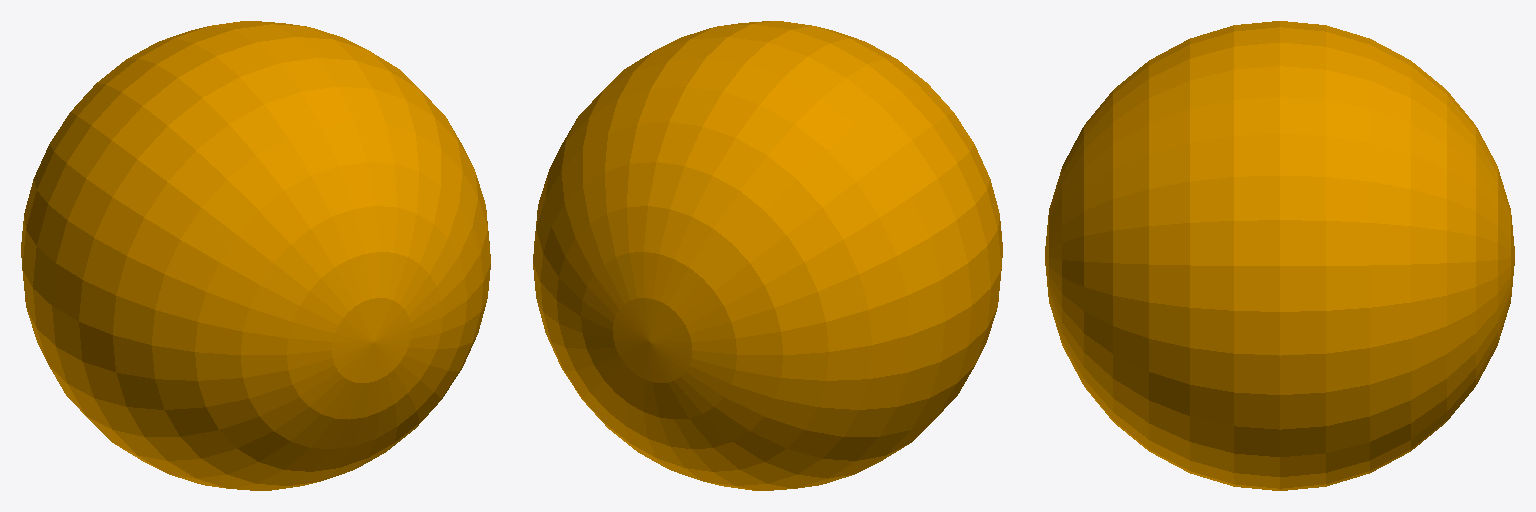
URDF robot description (spl-22-ball-v2.urdf):
<?xml version="1.0" ?>
<robot name="spl-22-ball-v2.urdf">
  <link name="baseLink">
    <visual>
      <origin rpy="0 0 0" xyz="0 0 0"/>
      <geometry>
        <mesh filename="spl-ball-10.obj" scale="0.08 0.08 0.08"/>
      </geometry>
      <material name="spl-ball-10">
        <texture filename="spl-ball-10.mtl"/>
      </material>
    </visual>
    <collision>
      <origin rpy="0 0 0" xyz="0 0 0"/>
      <geometry>
	 	<mesh filename="spl-ball-10.obj" scale="0.08 0.08 0.08"/>
      </geometry>
    </collision>
  </link>
</robot>

--- Facts derived from the render (not from the file) ---
3 views of the same robot in one strip: view 1: azimuth 30°, elevation 25°; view 2: azimuth 150°, elevation 25°; view 3: azimuth 270°, elevation 25° (orthographic).
Robot: spl-22-ball-v2.urdf — 1 links, 0 joints (none); root link baseLink; default pose: all joints at 0.
Visible links, largest first — view 1: baseLink; view 2: baseLink; view 3: baseLink.
Boxes of the visible links, x1=… form: baseLink: x1=21, y1=21, x2=490, y2=490; baseLink: x1=533, y1=21, x2=1002, y2=490; baseLink: x1=1045, y1=21, x2=1514, y2=490.
Bounding box of the posed robot: 0.16 × 0.16 × 0.16 m (x, y, z).
Meshes: 1 distinct files referenced, 1 mesh visuals loaded (1 OBJ).